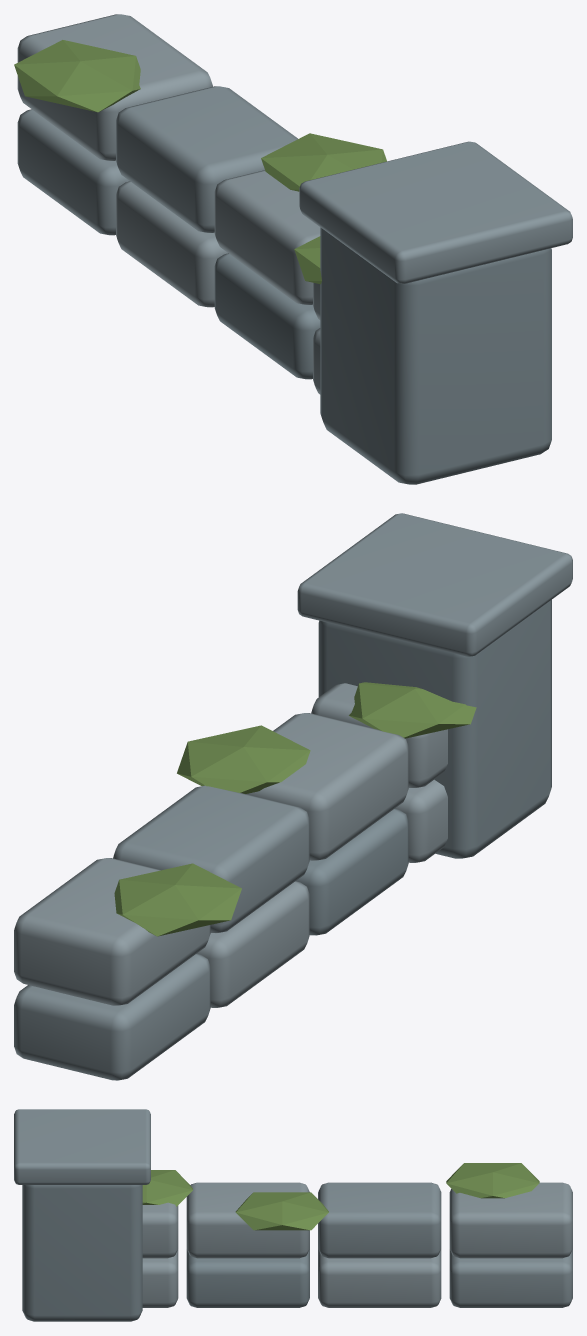
Rendered from SM_Wall_4m.fbx.
The picture shows the model from 3 angles, top to bottom: view 1: azimuth 30°, elevation 25°; view 2: azimuth 150°, elevation 25°; view 3: azimuth 270°, elevation 25°; orthographic projection. The views are drawn at different scales.
Parts seen in each view (by area): view 1: Pillar base.003, Pillar cap.003, Rubble parapet block.030, Rubble parapet block.031, Rubble parapet block.029, Rubble parapet block.027, Rubble parapet block.026, Rubble parapet block.025, Parapet moss.010, Parapet moss.011, Parapet moss.009; view 2: Pillar base.003, Pillar cap.003, Rubble parapet block.031, Rubble parapet block.030, Rubble parapet block.027, Rubble parapet block.029, Rubble parapet block.025, Rubble parapet block.026, Parapet moss.010, Parapet moss.011, Parapet moss.009, Rubble parapet block.028 (+1 smaller); view 3: Pillar base.003, Pillar cap.003, Rubble parapet block.030, Rubble parapet block.031, Rubble parapet block.029, Rubble parapet block.025, Rubble parapet block.027, Rubble parapet block.026, Parapet moss.011, Parapet moss.010, Rubble parapet block.028, Rubble parapet block.024 (+1 smaller).
Boxes of the visible parts, box(x1,y1,x2,y2) form: Pillar base.003: box(320, 227, 551, 484); Pillar cap.003: box(299, 141, 572, 283); Rubble parapet block.030: box(116, 86, 297, 232); Rubble parapet block.031: box(17, 14, 212, 160); Rubble parapet block.029: box(214, 170, 320, 304); Rubble parapet block.027: box(17, 109, 129, 235); Rubble parapet block.026: box(116, 181, 227, 307); Rubble parapet block.025: box(214, 253, 320, 379); Parapet moss.010: box(14, 40, 140, 112); Parapet moss.011: box(261, 133, 386, 191); Parapet moss.009: box(294, 236, 321, 284); Pillar base.003: box(318, 600, 551, 858); Pillar cap.003: box(297, 513, 572, 656); Rubble parapet block.031: box(14, 858, 210, 1005); Rubble parapet block.030: box(113, 785, 309, 933); Rubble parapet block.027: box(14, 953, 210, 1080); Rubble parapet block.029: box(246, 713, 408, 860); Rubble parapet block.025: box(296, 808, 408, 935); Rubble parapet block.026: box(197, 881, 309, 1007); Parapet moss.010: box(114, 863, 241, 936); Parapet moss.011: box(177, 725, 310, 793); Parapet moss.009: box(349, 682, 476, 738); Rubble parapet block.028: box(311, 683, 447, 788); Pillar base.003: box(22, 1185, 142, 1321); Pillar cap.003: box(14, 1109, 150, 1184); Rubble parapet block.030: box(318, 1182, 441, 1258); Rubble parapet block.031: box(449, 1182, 572, 1258); Rubble parapet block.029: box(186, 1182, 309, 1258); Rubble parapet block.025: box(186, 1249, 309, 1307); Rubble parapet block.027: box(449, 1249, 572, 1307); Rubble parapet block.026: box(318, 1249, 441, 1307); Parapet moss.011: box(235, 1192, 328, 1230); Parapet moss.010: box(446, 1163, 539, 1198); Rubble parapet block.028: box(142, 1202, 178, 1258); Rubble parapet block.024: box(142, 1249, 178, 1307).
Size of what is drawn, in the model's own units: 113 by 133 by 408.
